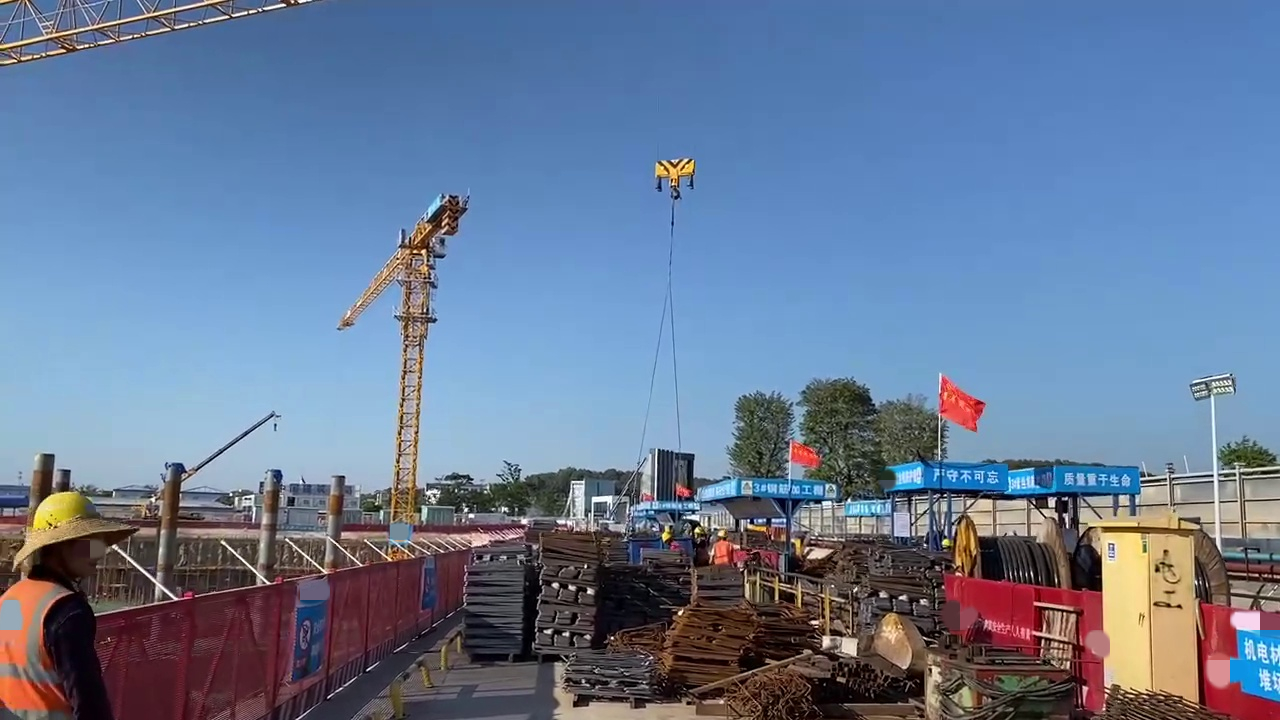ebox: (1091, 512, 1204, 702)
fence: (134, 581, 338, 708), (336, 563, 457, 656)
helmet: (23, 488, 105, 538)
hook: (651, 157, 700, 191)
person: (1, 494, 127, 711), (709, 529, 734, 574)
rebar: (526, 531, 607, 668), (660, 599, 753, 706), (463, 553, 540, 662), (842, 548, 890, 657), (737, 669, 830, 720), (1100, 689, 1249, 720), (839, 648, 912, 702)
slogan: (1057, 463, 1137, 490), (930, 465, 1008, 489), (984, 619, 1034, 639)
vest: (4, 577, 91, 720), (711, 539, 732, 567)
